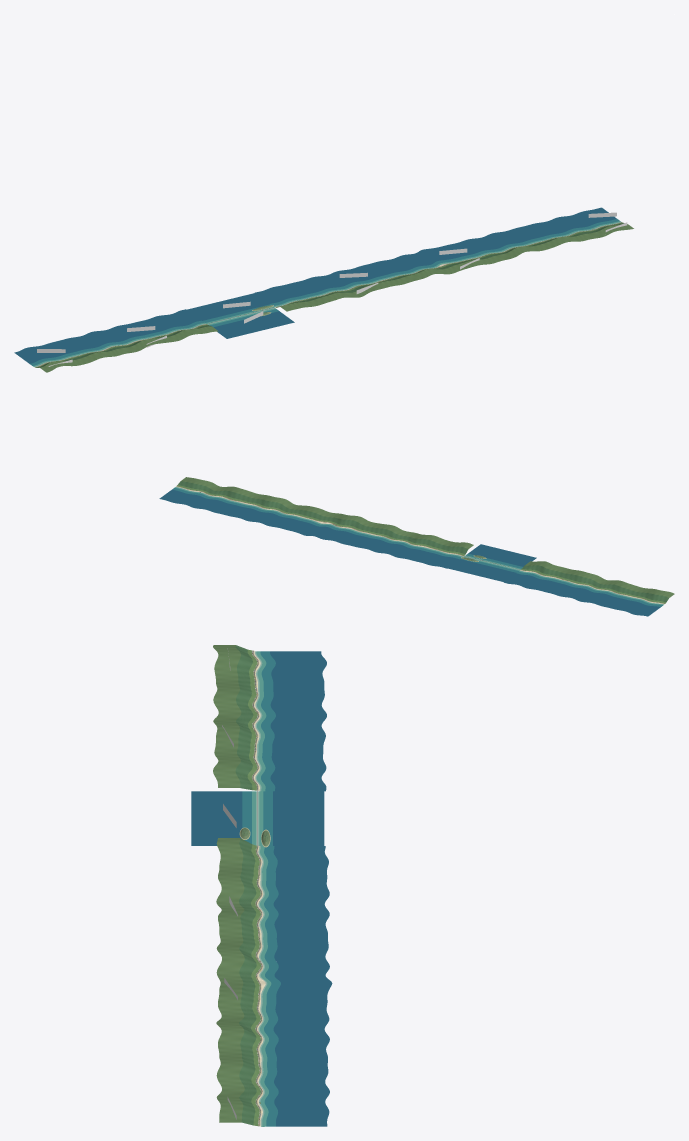
The model's file is okinawa.glb.
3 renders of one model, top to bottom at view 1: azimuth 30°, elevation 25°; view 2: azimuth 150°, elevation 25°; view 3: azimuth 270°, elevation 25°, orthographic. The views are drawn at different scales.
Parts seen in each view (by area): view 1: no part large enough to name; view 2: Land_014, Land_004, Land_010, Land_008, Land_000, Land_012, Land_002, Land_015, Land_016, Land_011, Land_003, Land_001; view 3: Land_016, Land_012, Land_004, Land_008, Land_010, Land_000, Land_002, Land_014, Land_013, Land_003, OkinawaLagoon_025, OkinawaLagoon_024 (+29 smaller).
Part boxes in pixels (x1,y1,x2,y2): Land_014: (254,495,294,511); Land_004: (528,561,565,577); Land_010: (362,522,401,538); Land_008: (417,534,454,552); Land_000: (637,588,674,604); Land_012: (309,508,348,525); Land_002: (583,573,620,591); Land_015: (227,488,264,505); Land_016: (200,482,239,498); Land_011: (335,515,371,532); Land_003: (555,568,589,584); Land_001: (610,581,645,598); Land_016: (216,1065,263,1102); Land_012: (216,958,265,996); Land_004: (213,752,259,783); Land_008: (218,857,262,890); Land_010: (218,910,261,943); Land_000: (213,645,260,677); Land_002: (213,697,260,730); Land_014: (216,1016,263,1049); Land_013: (218,990,262,1023); Land_003: (214,725,259,756); OkinawaLagoon_025: (191,817,324,824); OkinawaLagoon_024: (191,810,324,817).
Bounding box in the file's own units: 20516 × 3443 × 4611.
